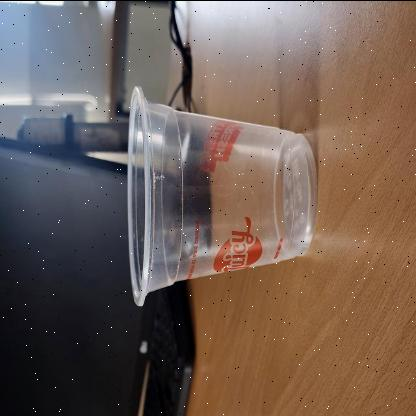Others: (126, 82, 318, 308)
